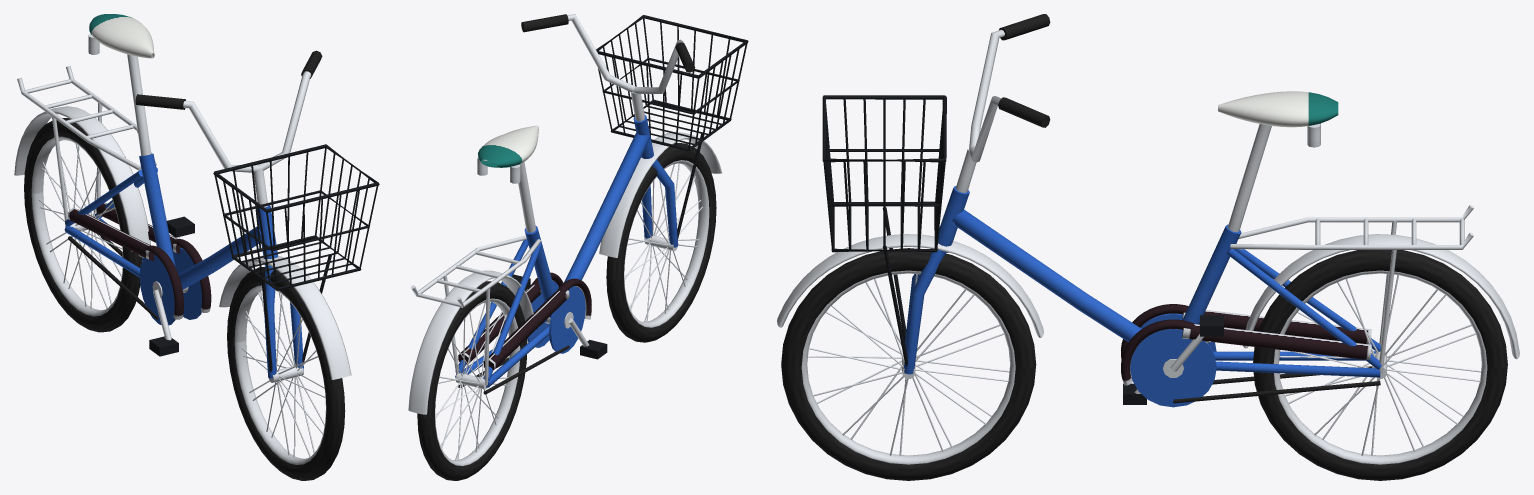
The model's file is basikal_mini_biru_bakul.glb.
3 renders of one model, left to right at view 1: azimuth 30°, elevation 25°; view 2: azimuth 150°, elevation 25°; view 3: azimuth 270°, elevation 25°, orthographic. The views are drawn at different scales.
Visible parts, largest first — view 1: Basikal_Mini_Biru_Bakul; view 2: Basikal_Mini_Biru_Bakul; view 3: Basikal_Mini_Biru_Bakul.
Boxes of the visible parts, x1,y1,x2,y2 form: Basikal_Mini_Biru_Bakul: [14, 14, 379, 480]; Basikal_Mini_Biru_Bakul: [408, 14, 748, 480]; Basikal_Mini_Biru_Bakul: [777, 14, 1519, 480].
Size of the model in its own units: 0.5209 by 0.957 by 1.54.
1 material, 1 textured.
